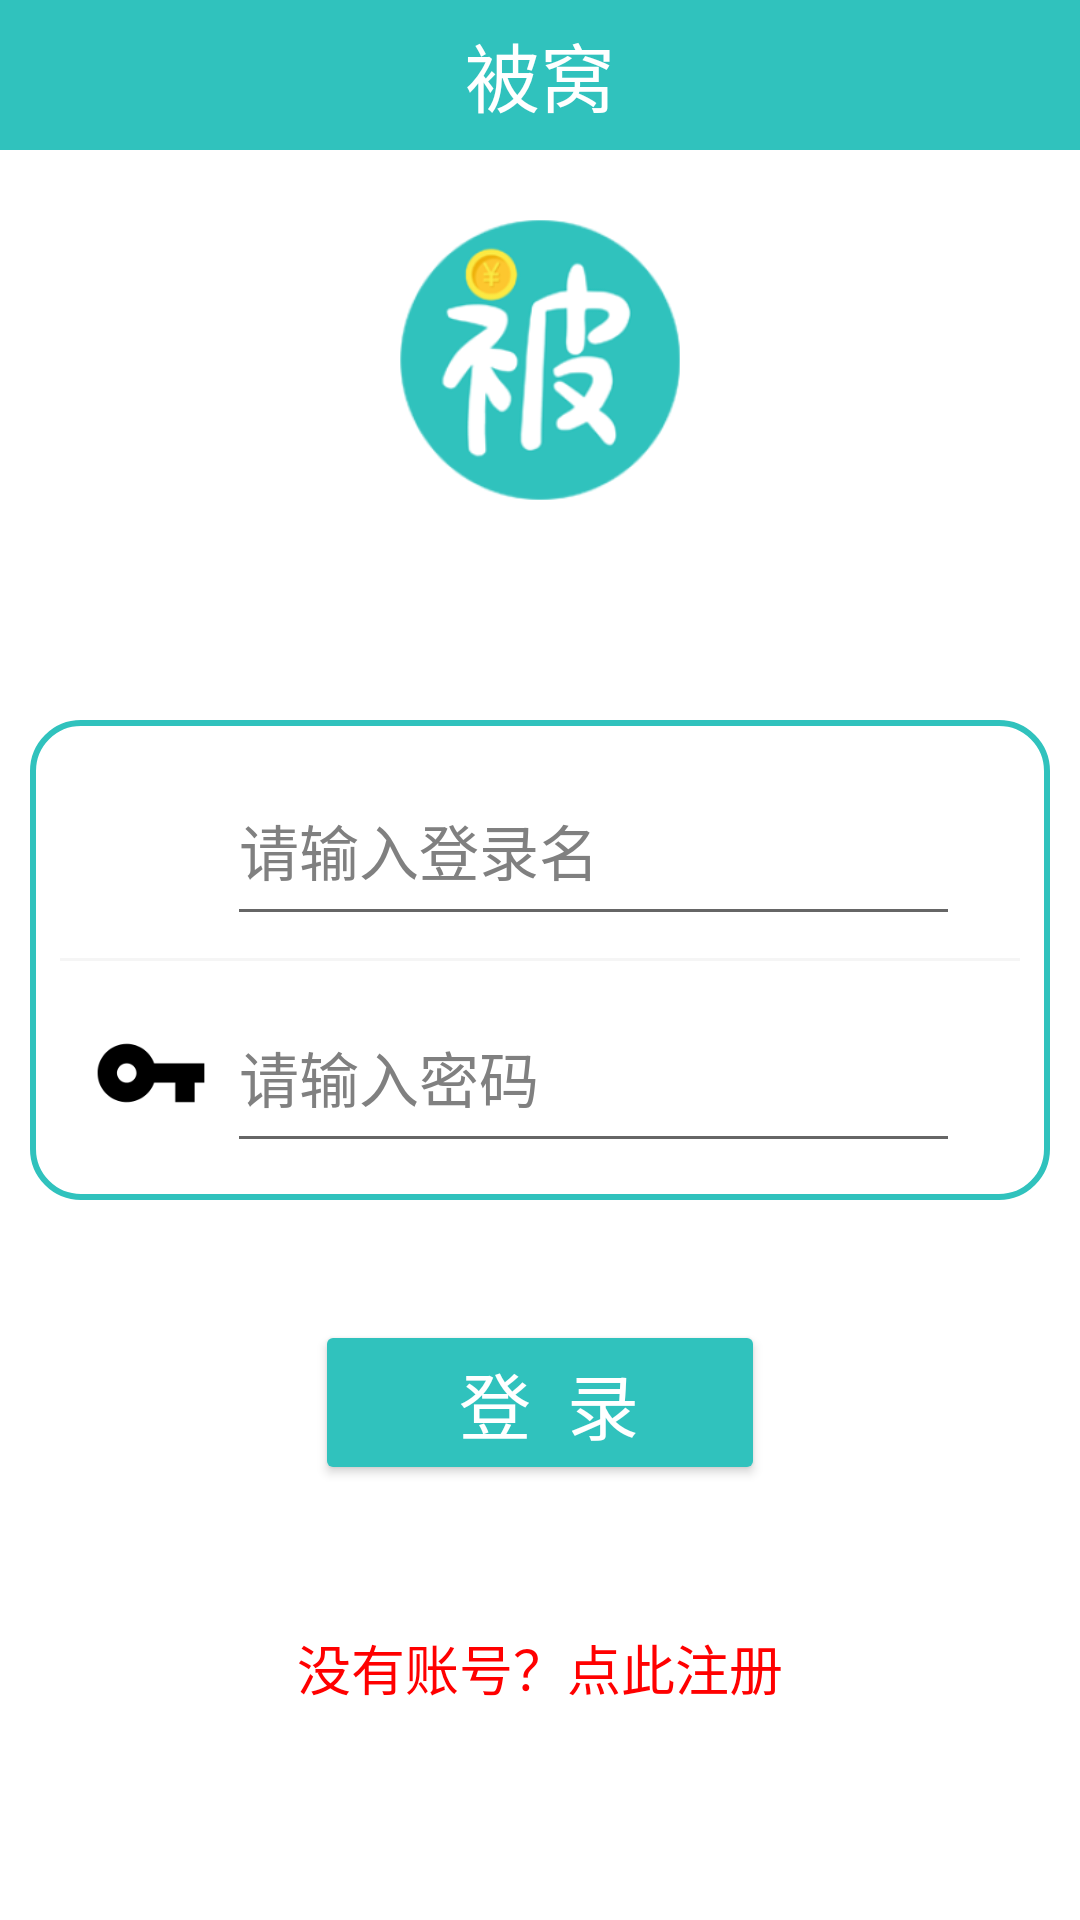

Icon bounding boxes for this 1080×1920 phone screenshot, format [x1, y1, x2, y2]:
loginpwd: [97, 1043, 205, 1103]
